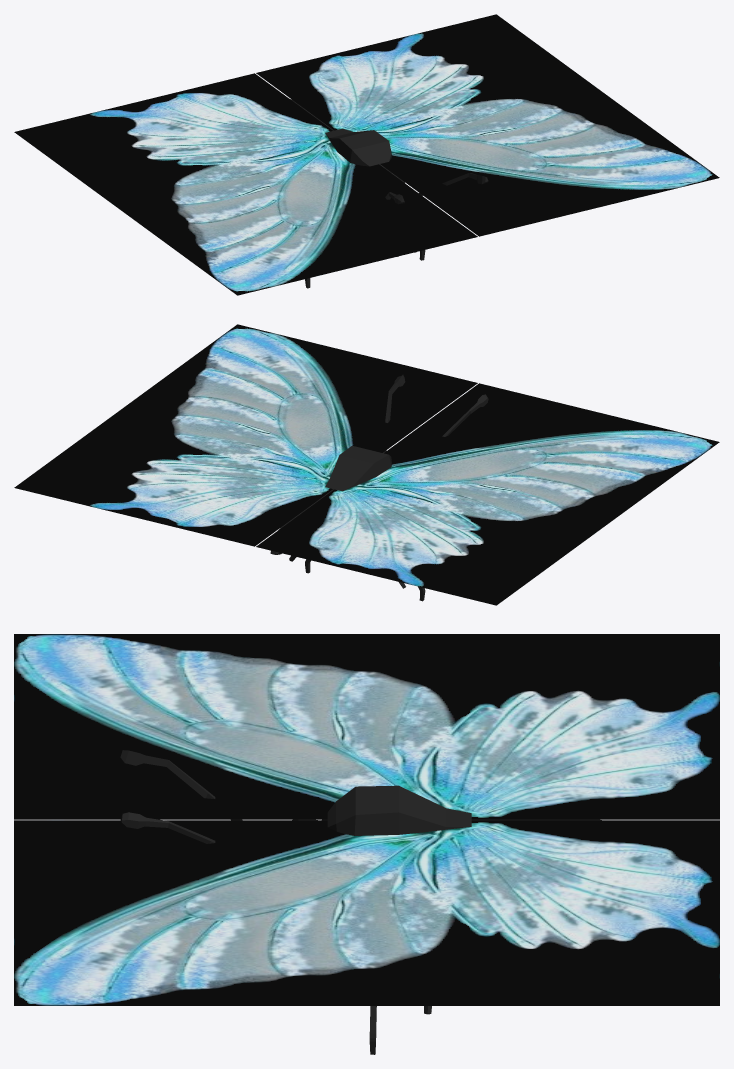
File: butterfly-1.fbx
3 views of the same model, one above another, from view 1: azimuth 30°, elevation 25°; view 2: azimuth 150°, elevation 25°; view 3: azimuth 270°, elevation 25° (orthographic). The views are drawn at different scales.
Parts seen in each view (by area): view 1: wing-1, wing-0, Object_11; view 2: wing-1, wing-0, Object_11; view 3: wing-0, wing-1, Object_11.
Boxes of the visible parts, x1,y1,x2,y2 form: wing-1: (14, 73, 477, 295); wing-0: (256, 14, 719, 236); Object_11: (290, 99, 488, 288); wing-1: (256, 383, 719, 605); wing-0: (14, 324, 477, 546); Object_11: (270, 374, 488, 601); wing-0: (14, 820, 719, 1005); wing-1: (14, 634, 719, 819); Object_11: (120, 750, 601, 1054).
Size of the model in its own units: 59.33 by 17 by 47.6.
Materials: 2 (1 with a texture image).
